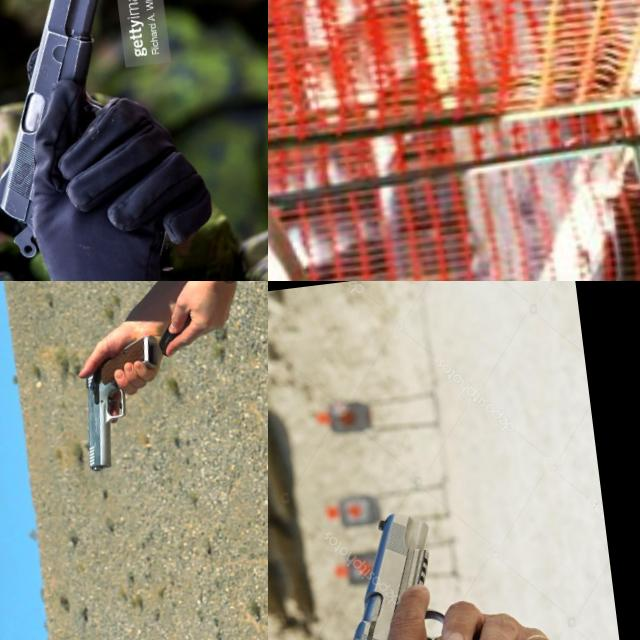handgun: (0, 0, 138, 265), (306, 502, 468, 640), (70, 329, 176, 473), (268, 0, 307, 139)
